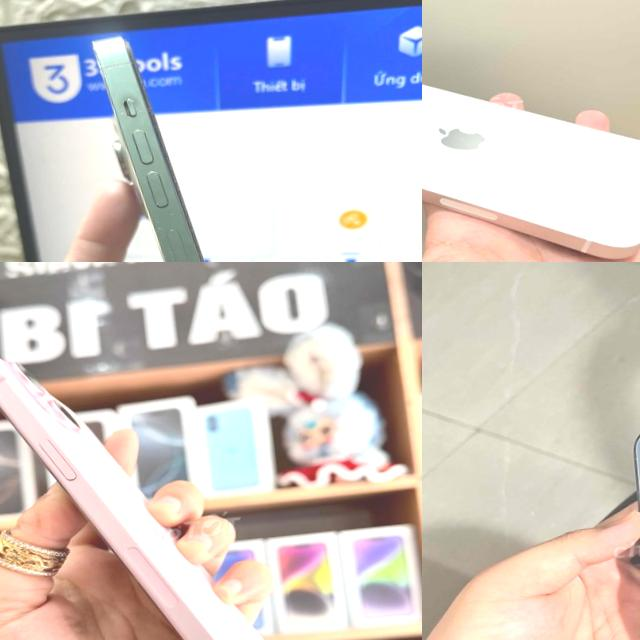gen_12_13: (422, 35, 640, 262)
gen_15: (0, 323, 321, 640), (71, 22, 309, 262)
